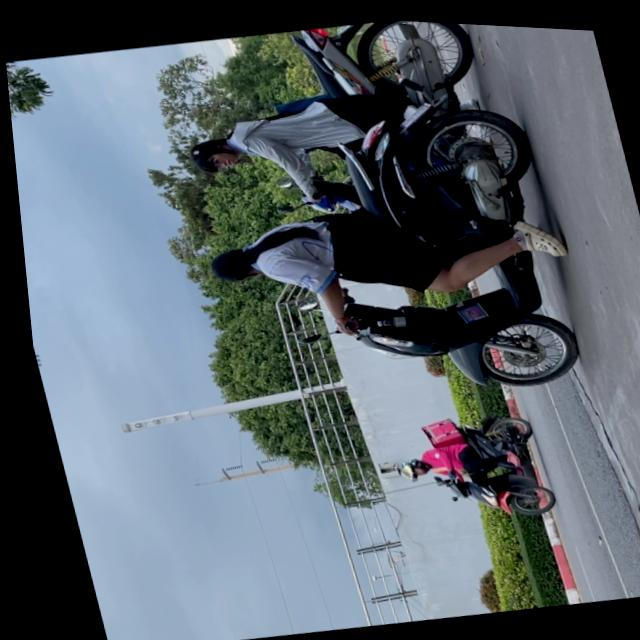no-seatbelt: (388, 451, 421, 480)
seatbelt: (200, 238, 261, 286), (181, 130, 242, 176)
